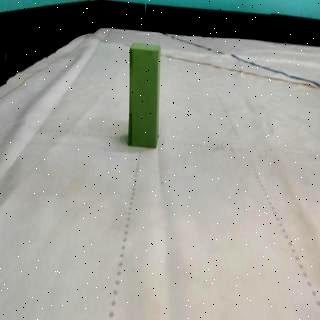greenbox: (126, 40, 164, 154)
